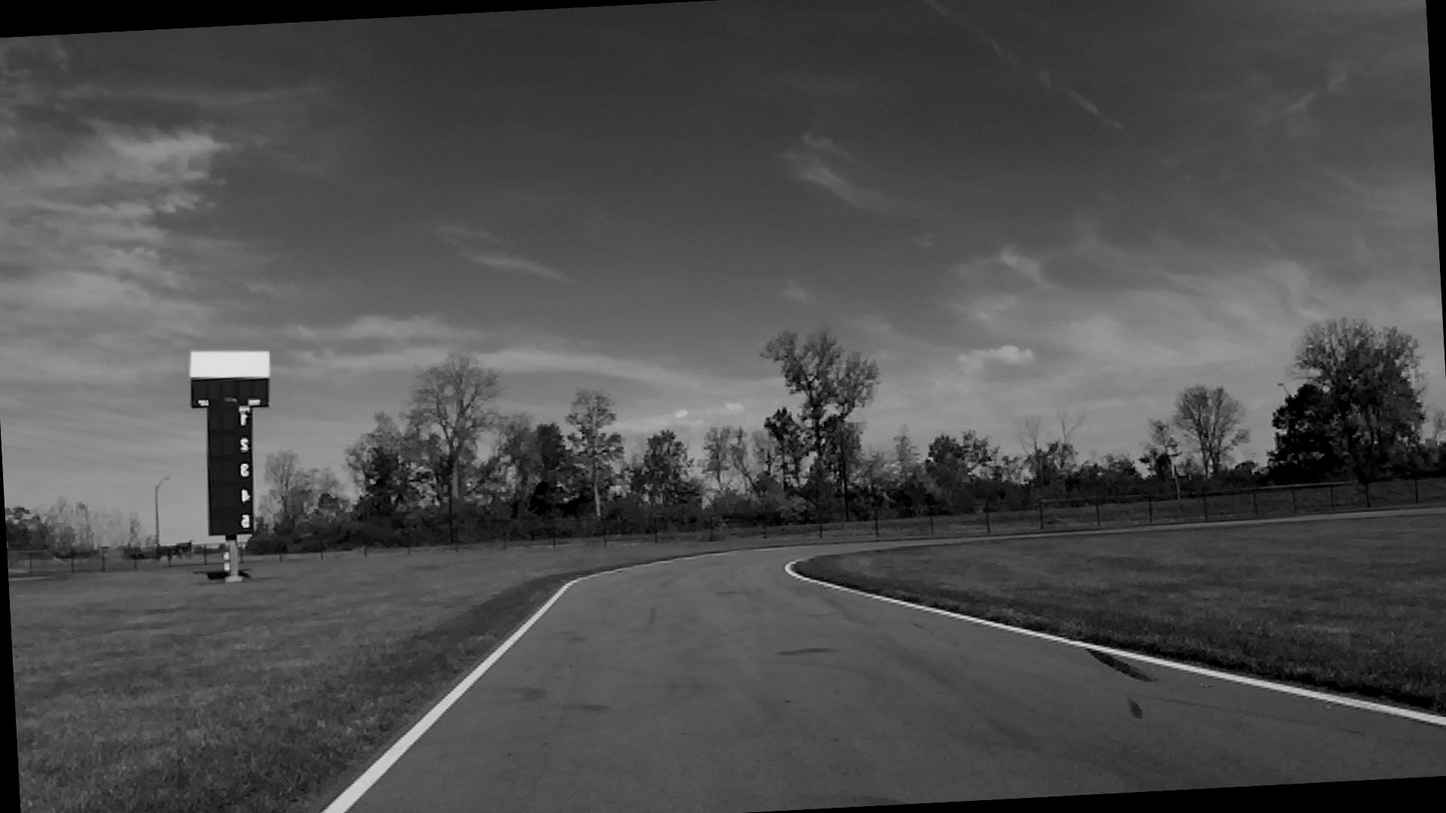white-line: (784, 559, 1446, 726), (320, 552, 728, 813)
